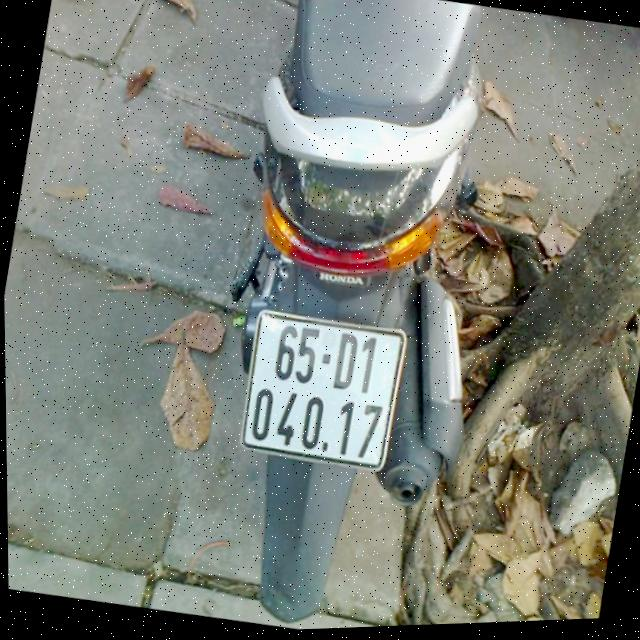motorcycle: (156, 0, 535, 634)
plate: (232, 297, 409, 482)
